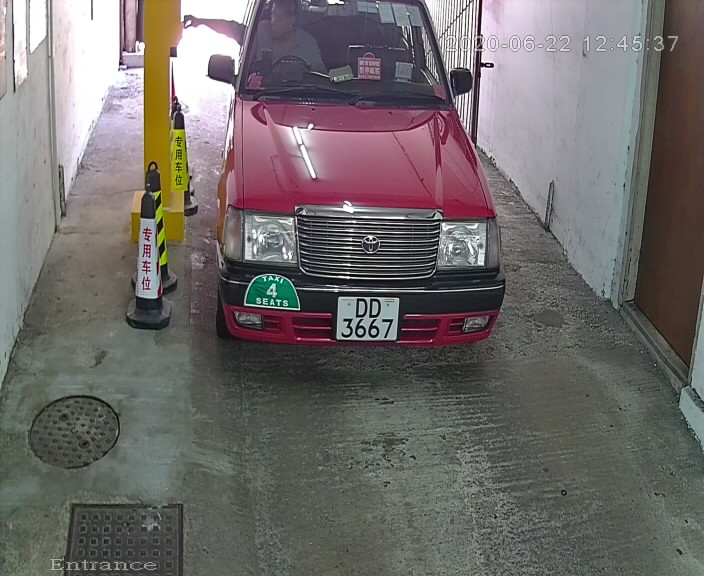taxi: (184, 1, 543, 380)
taxi_mark: (241, 269, 309, 319)
